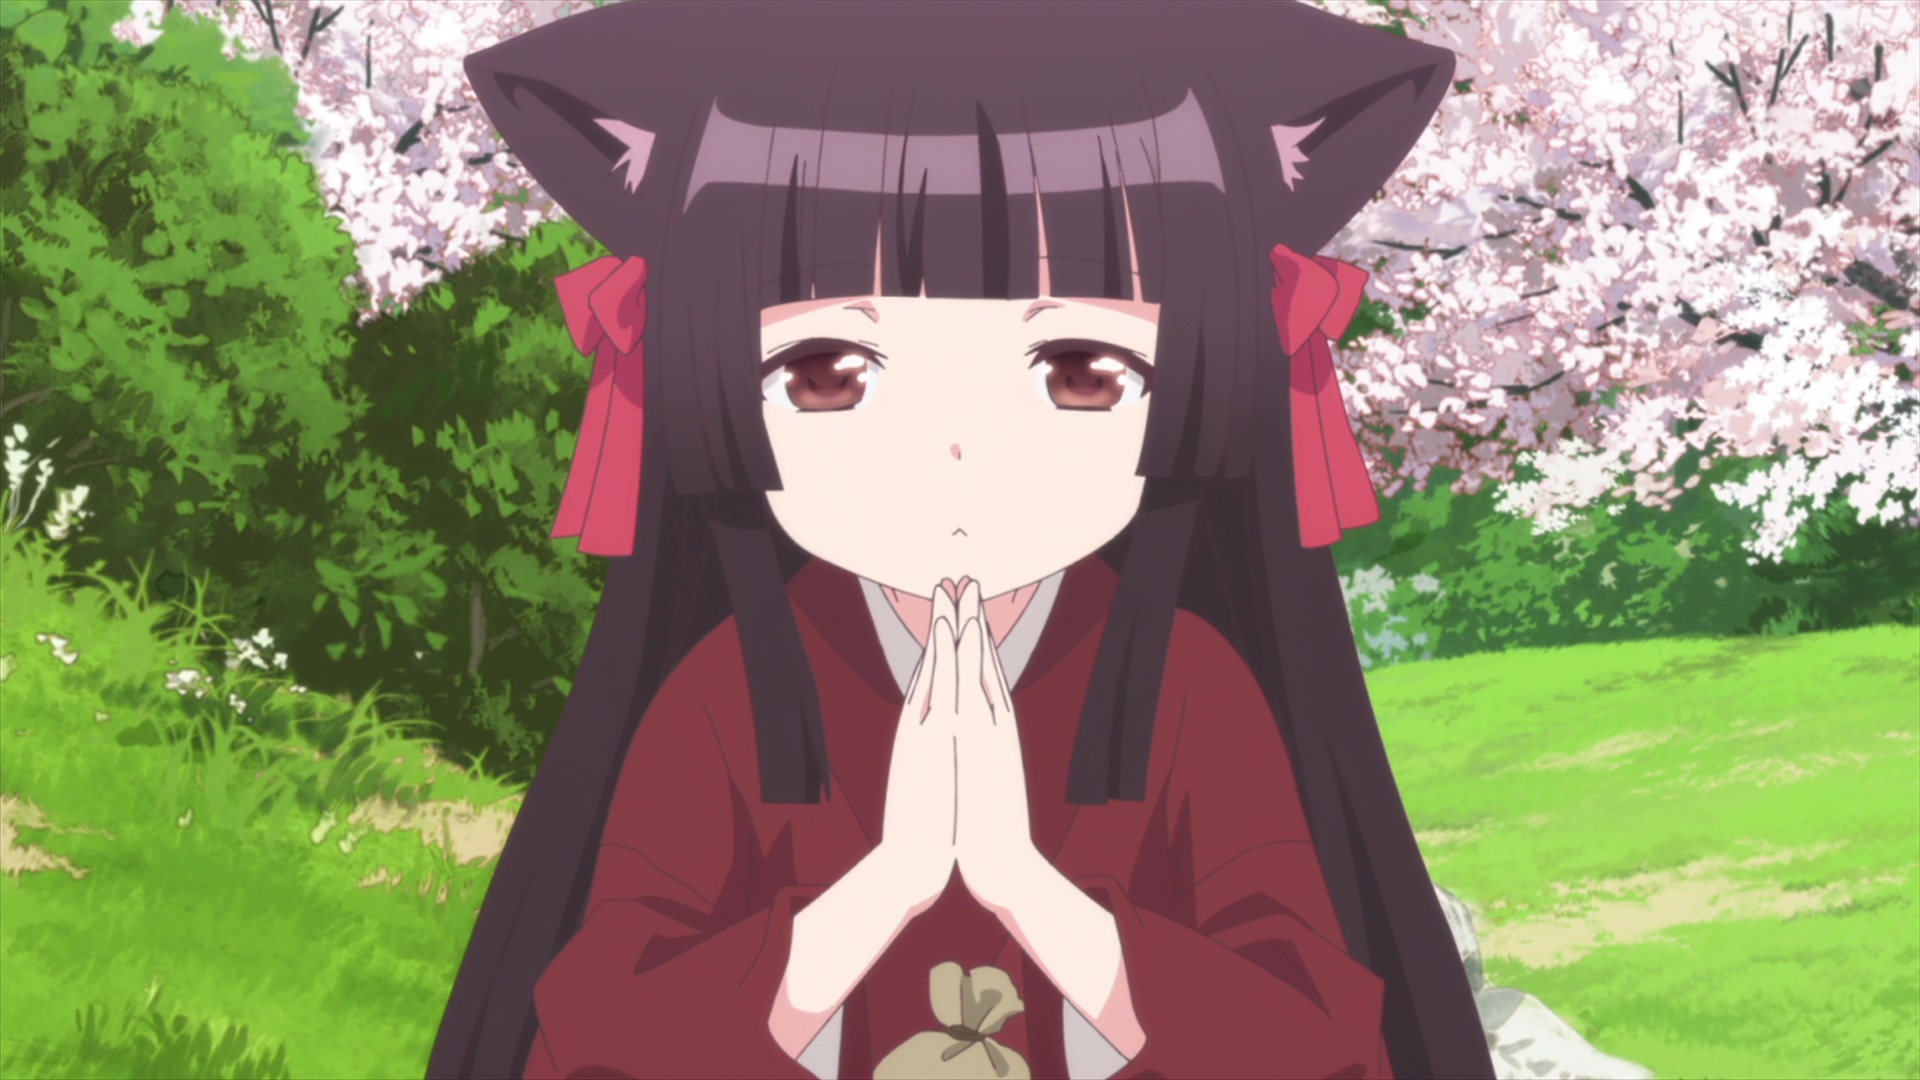樱: (423, 1, 1495, 1080)
